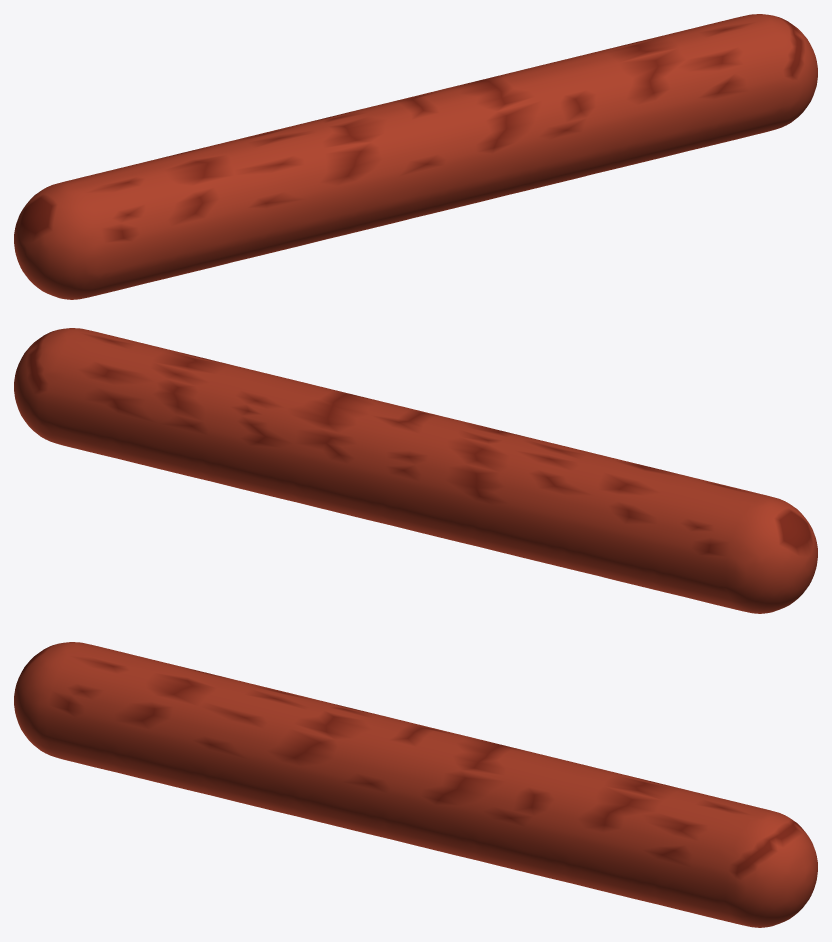
Rendered from sausage.glb.
The picture shows the model from 3 angles, top to bottom: view 1: azimuth 30°, elevation 25°; view 2: azimuth 150°, elevation 25°; view 3: azimuth 330°, elevation 25°; orthographic projection.
Visible parts, largest first — view 1: sausage; view 2: sausage; view 3: sausage.
Part boxes in pixels (<box>): sausage: <box>14,14,817,299</box>; sausage: <box>14,328,817,613</box>; sausage: <box>14,642,817,927</box>.
Bounding box in the file's own units: 0.2114 × 0.0275 × 0.0273.
